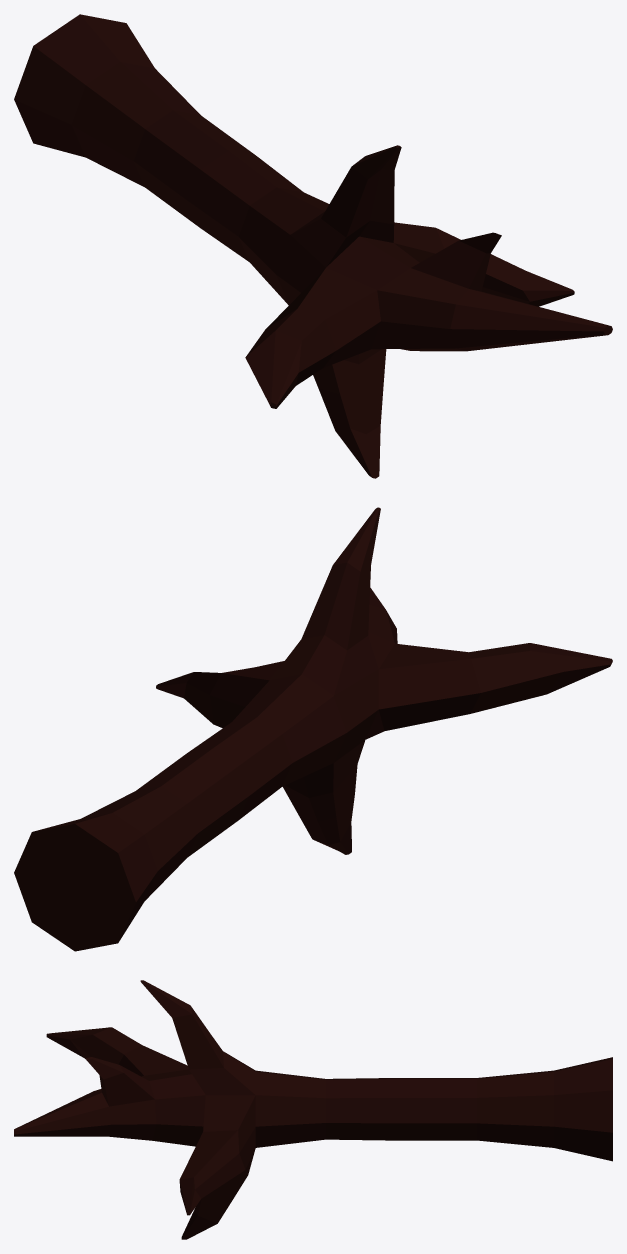
Rendered from tree.obj.
The picture shows the model from 3 angles, top to bottom: view 1: azimuth 30°, elevation 25°; view 2: azimuth 150°, elevation 25°; view 3: azimuth 270°, elevation 25°; orthographic projection. The views are drawn at different scales.
Parts seen in each view (by area): view 1: Tree_Material.011; view 2: Tree_Material.011; view 3: Tree_Material.011.
Boxes of the visible parts, box(x1,y1,x2,y2) form: Tree_Material.011: box(14, 14, 612, 478); Tree_Material.011: box(14, 507, 612, 951); Tree_Material.011: box(14, 980, 612, 1239).
Bounding box in the file's own units: 6.73 × 5.72 × 12.05.
